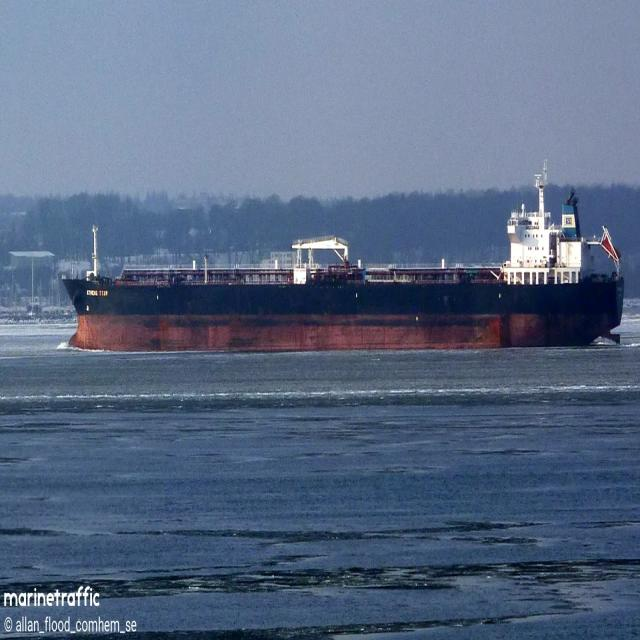Tanker: (62, 164, 624, 351)
